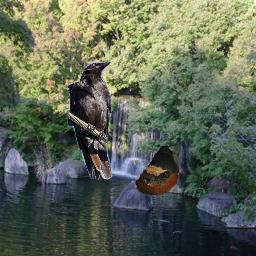Crow: (67, 60, 113, 180)
Swallow: (135, 146, 179, 196)
